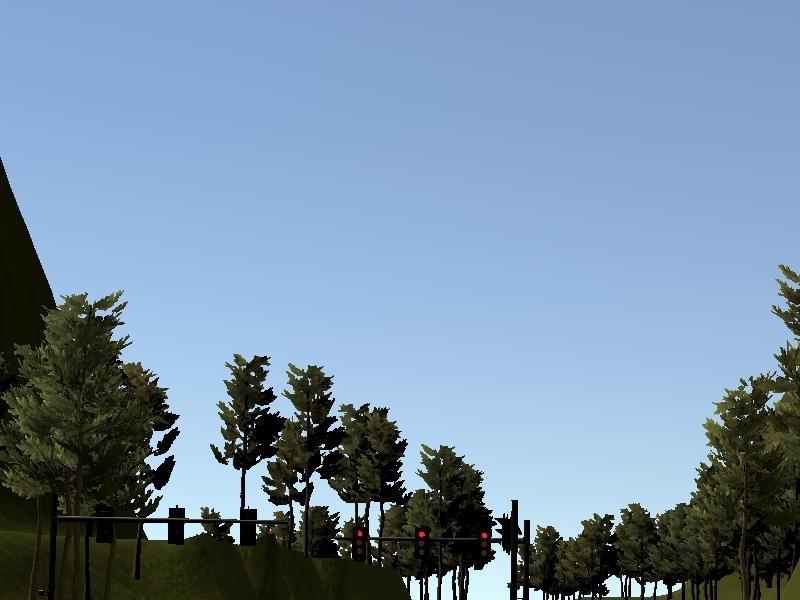traffic_light_red: (342, 527, 506, 562)
